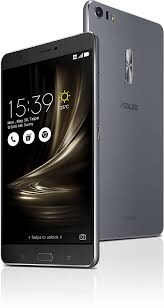asus: (1, 36, 101, 271), (87, 1, 164, 243)
